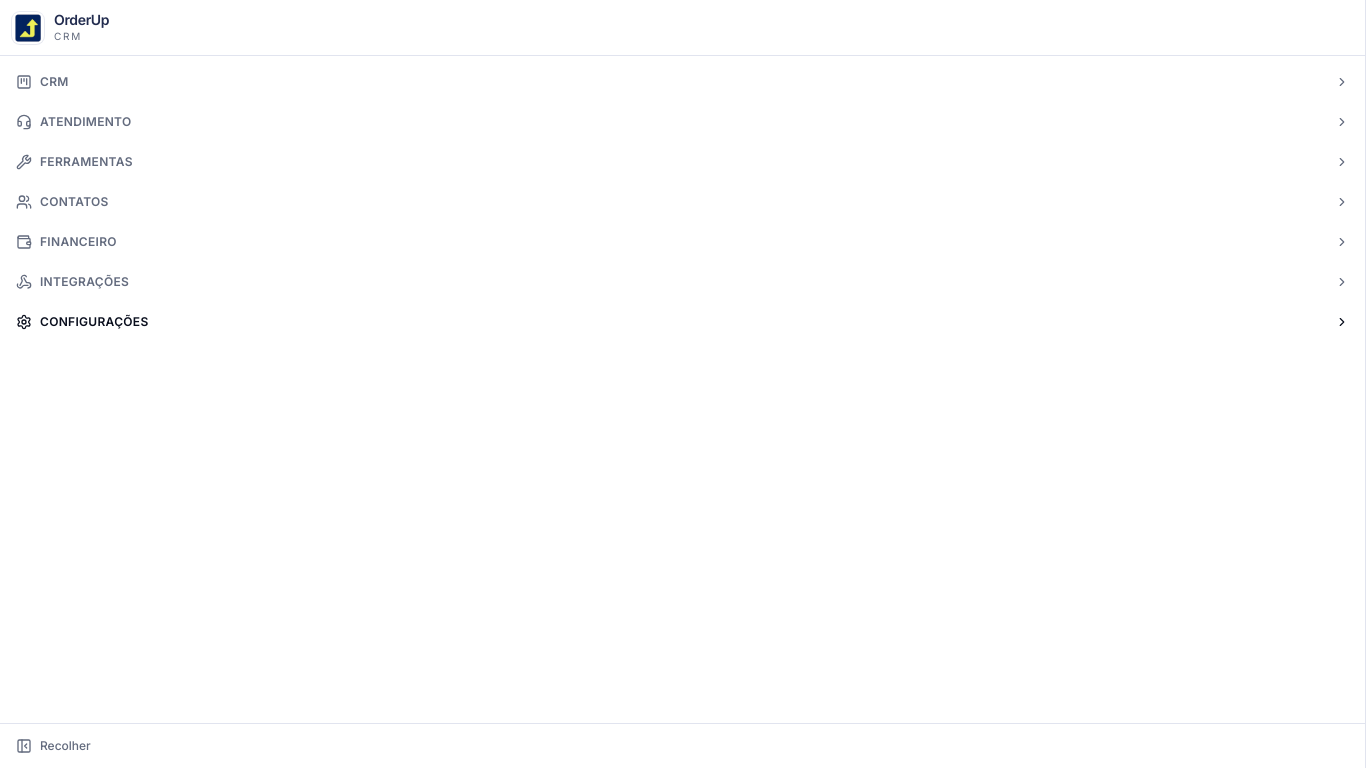
Sidebar › starts the mobile settings group minimized and expands all its sections
Expected: the link "Equipe" is not shown
Click the button "Configurações" at (94, 322), box [8,308,1357,336]
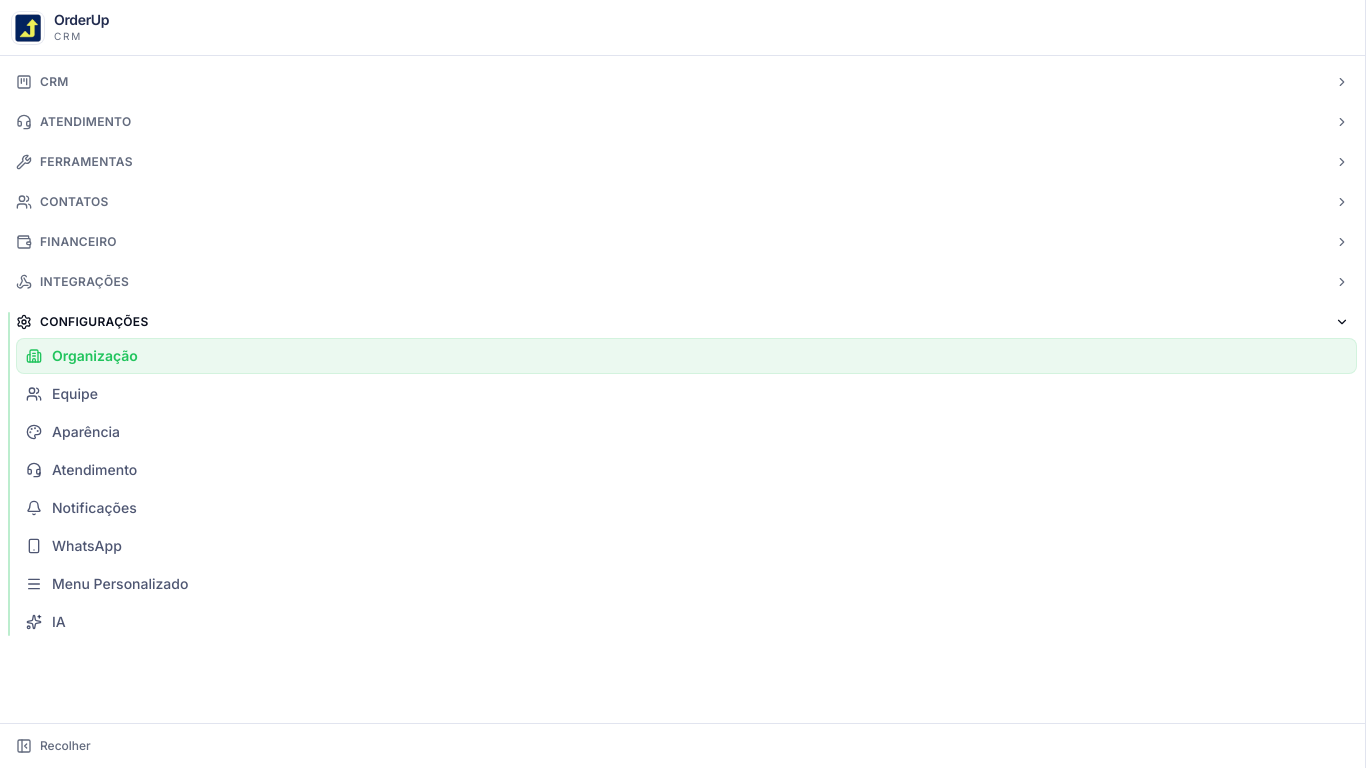
Result: the button "Configurações" is expanded at [8,308,1357,336]
Result: the link to "/configuracoes" reads "Organização" at [16,338,1357,374]
Result: the link to "/configuracoes?tab=team" reads "Equipe" at [26,385,98,402]
